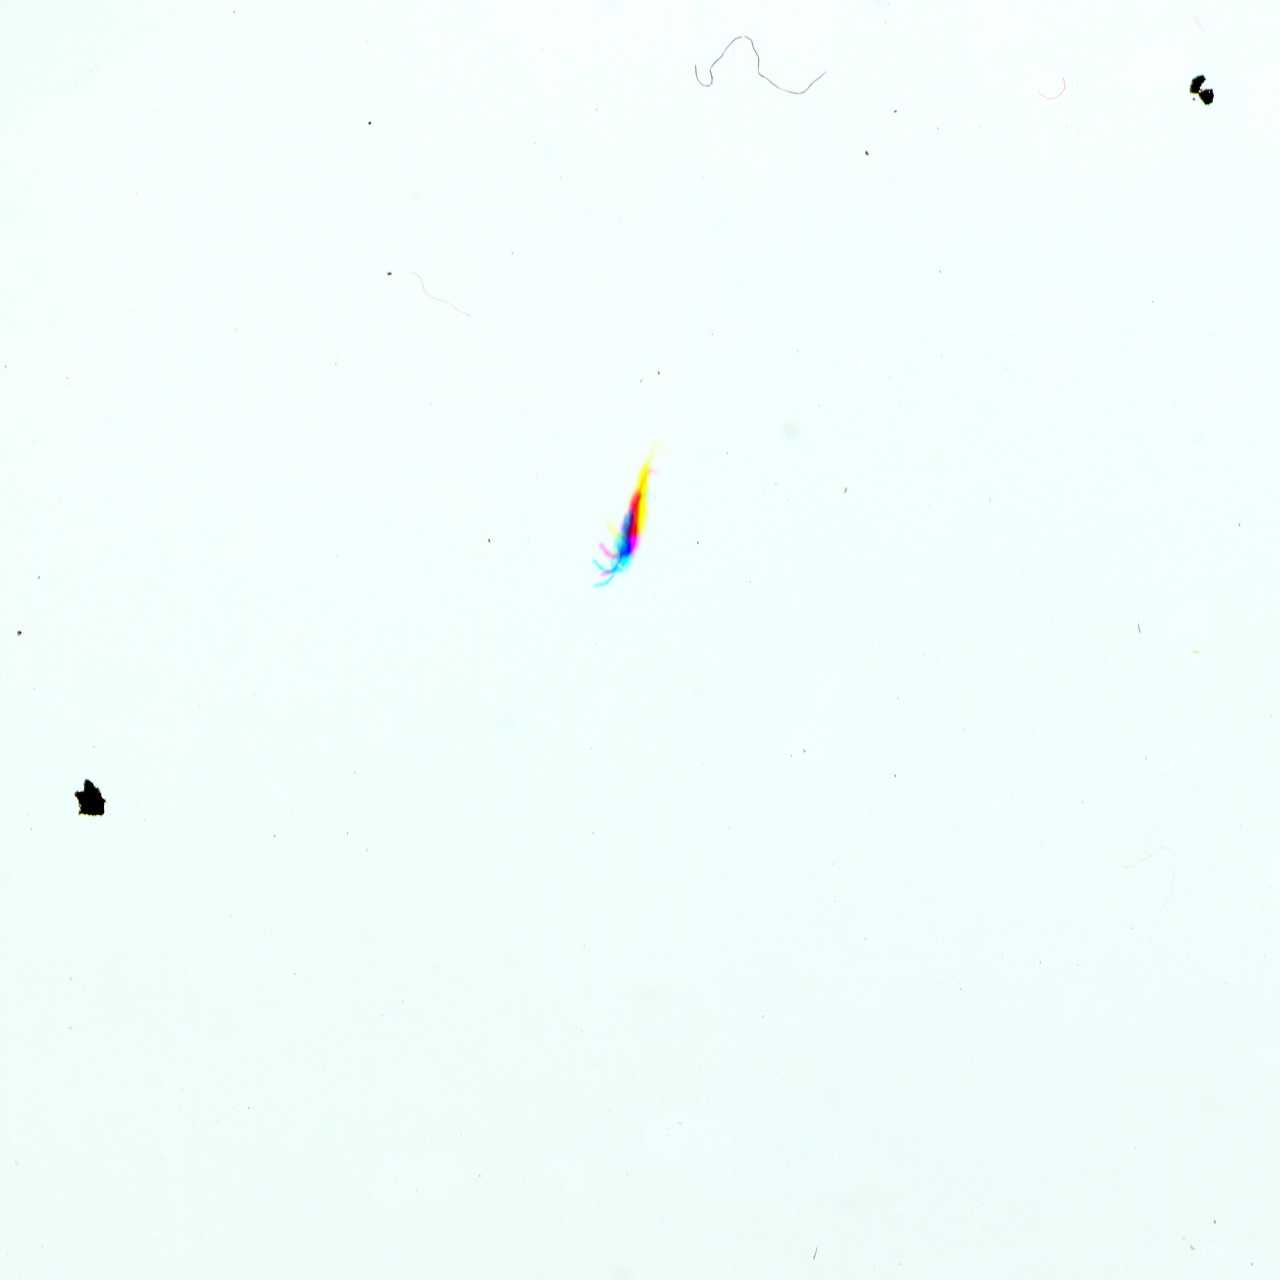arthropod: (570, 423, 685, 610)
